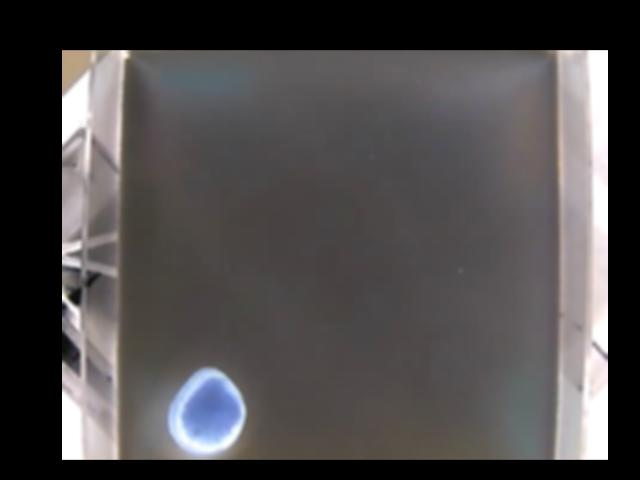Potato: (168, 365, 247, 453)
